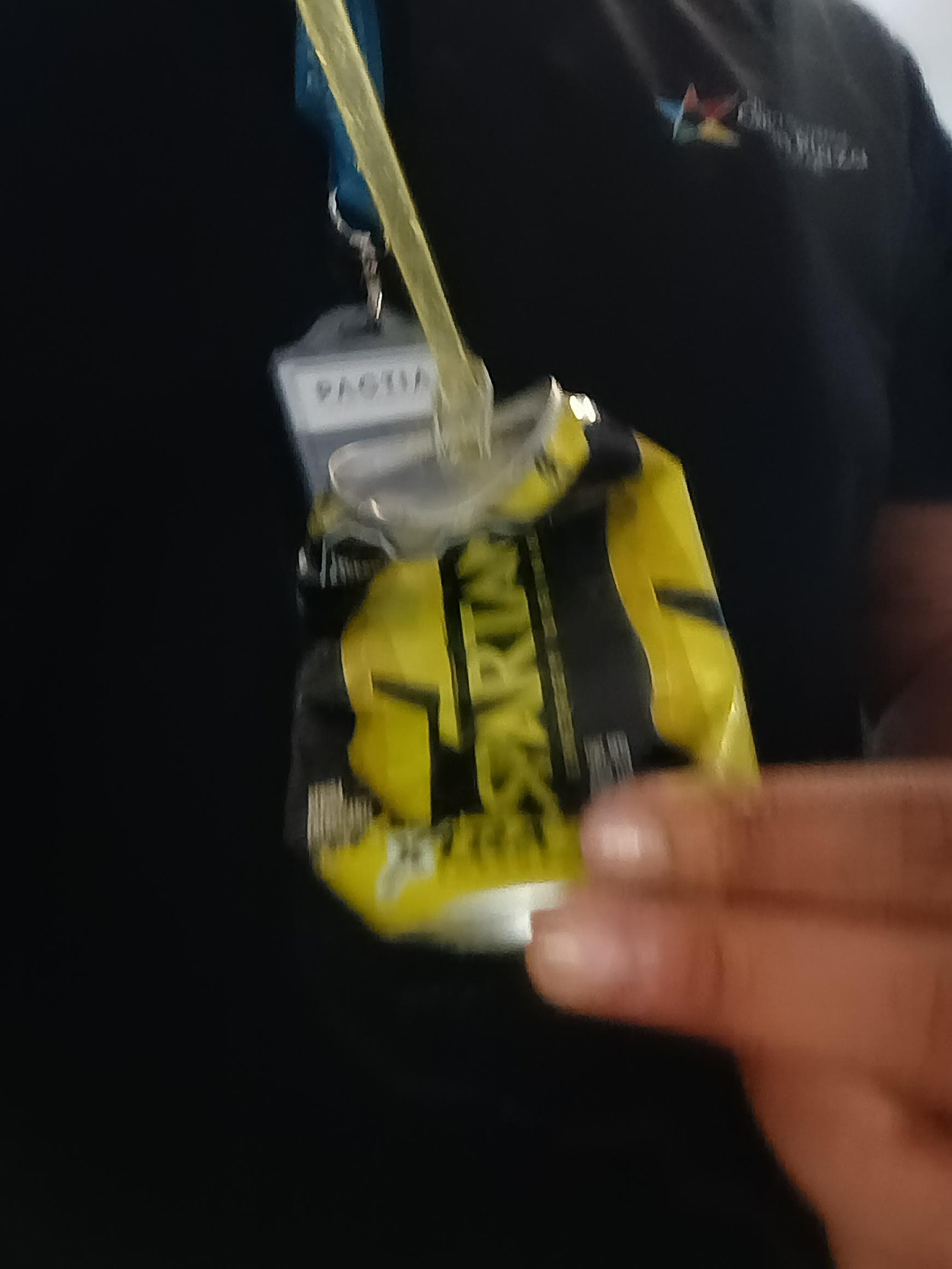Metal: (294, 382, 761, 958)
